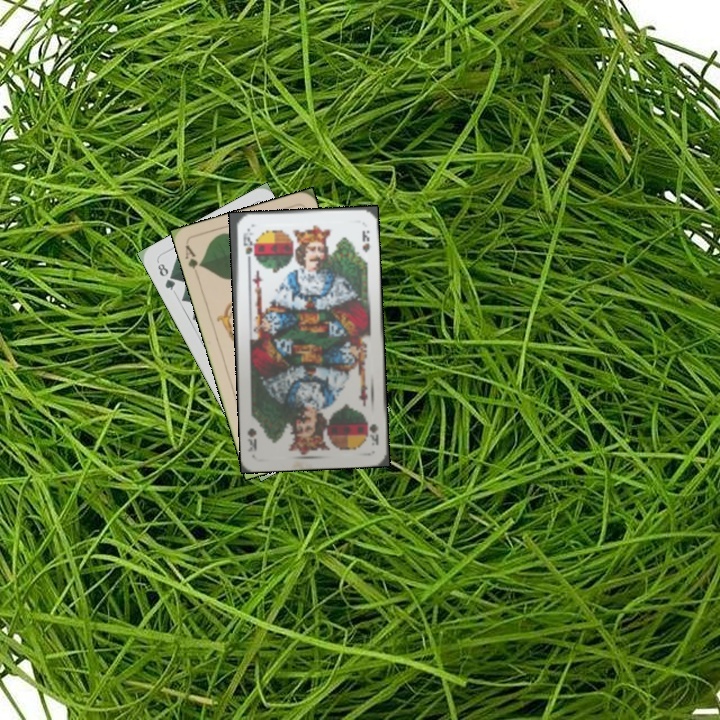G8: (153, 259, 178, 293)
GA: (181, 241, 205, 272)
SK: (239, 227, 254, 267), (363, 417, 381, 448)
